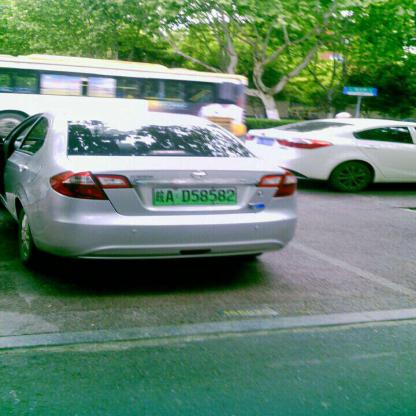lp: (152, 185, 237, 204)
